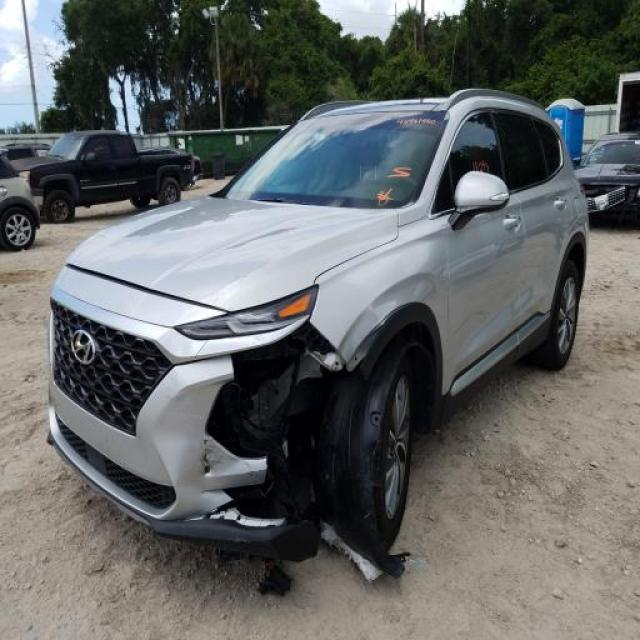missing: (203, 316, 357, 556)
